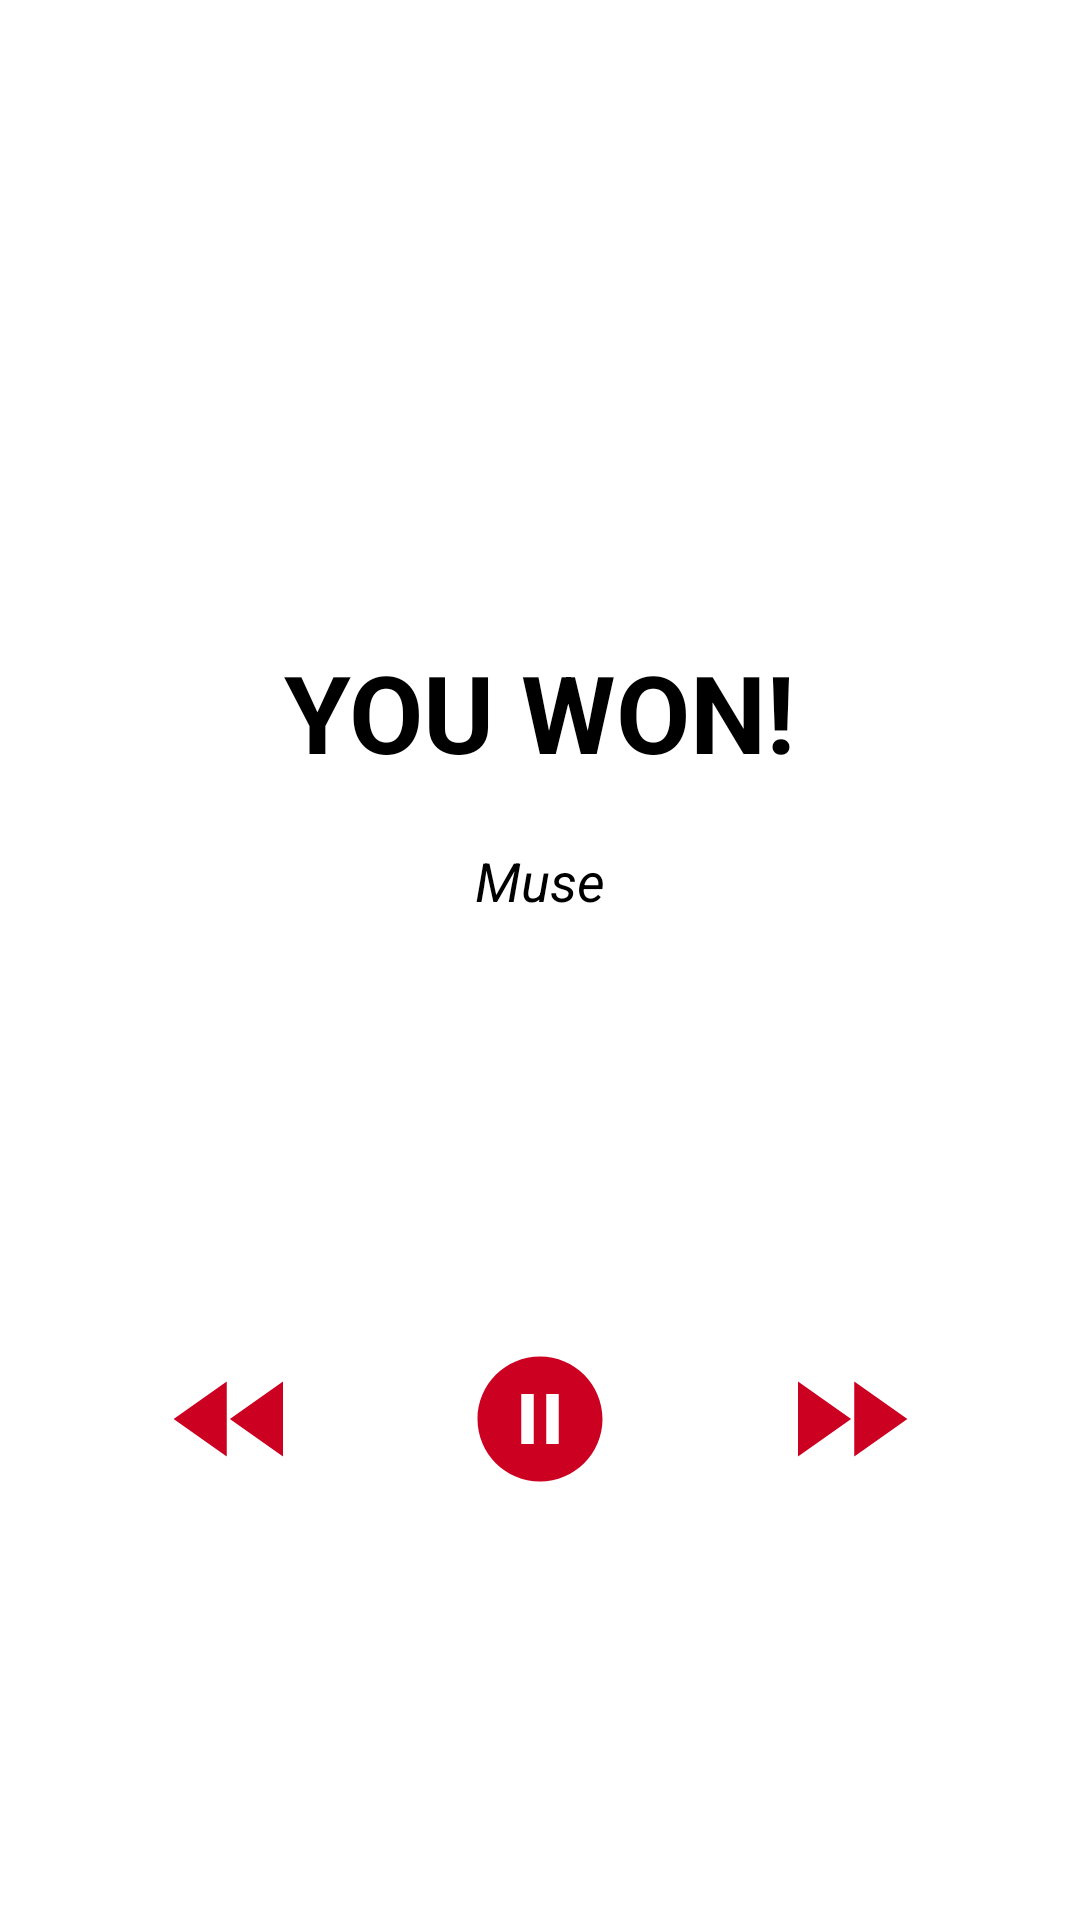

Named icons in this screenshot (1080px×1920px) and their bounding boxes, rect(x1, y1, x2, y2):
fast forward: rect(798, 1381, 907, 1457)
pause: rect(477, 1356, 603, 1482)
rewind: rect(174, 1381, 283, 1457)
